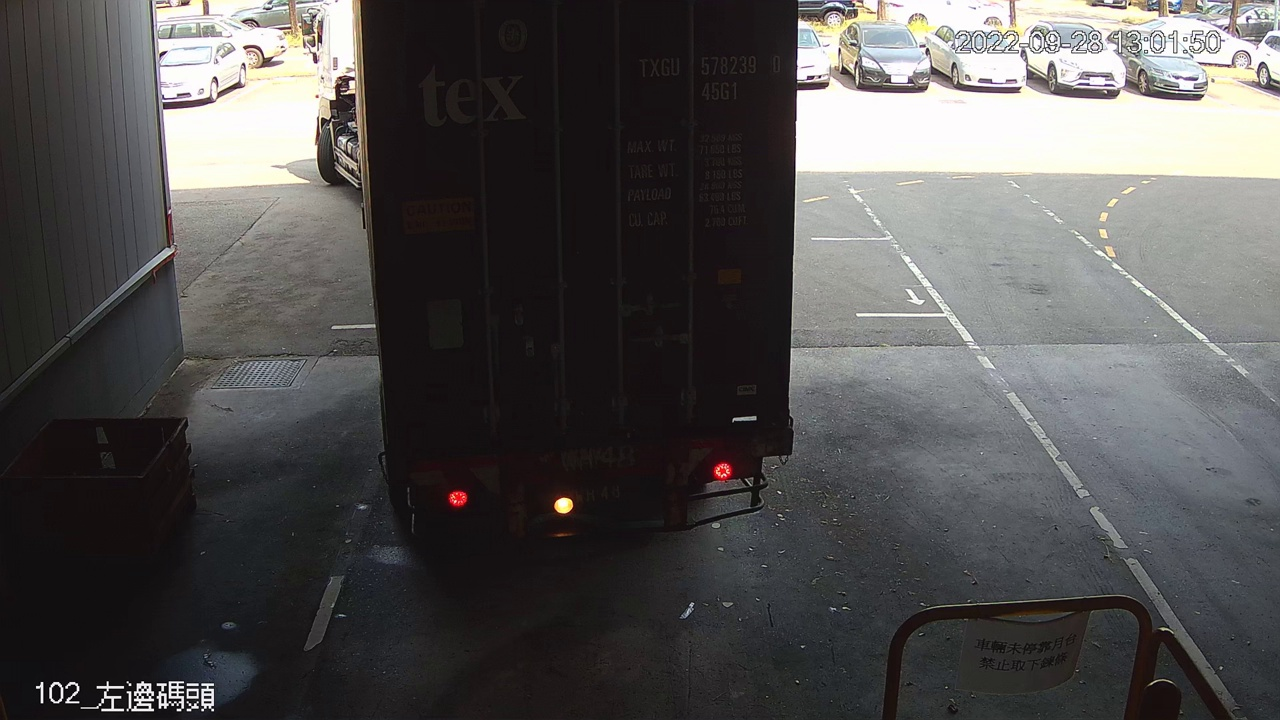container: (631, 50, 787, 107)
